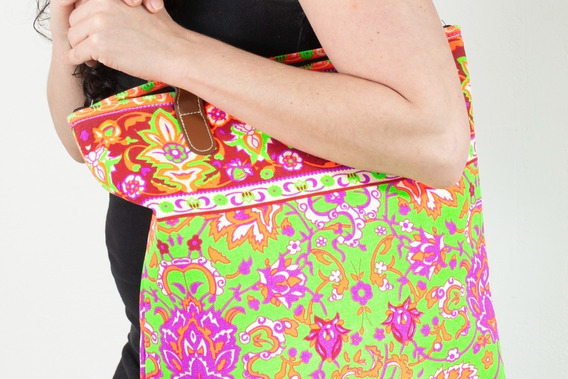cartera: (68, 3, 502, 379)
